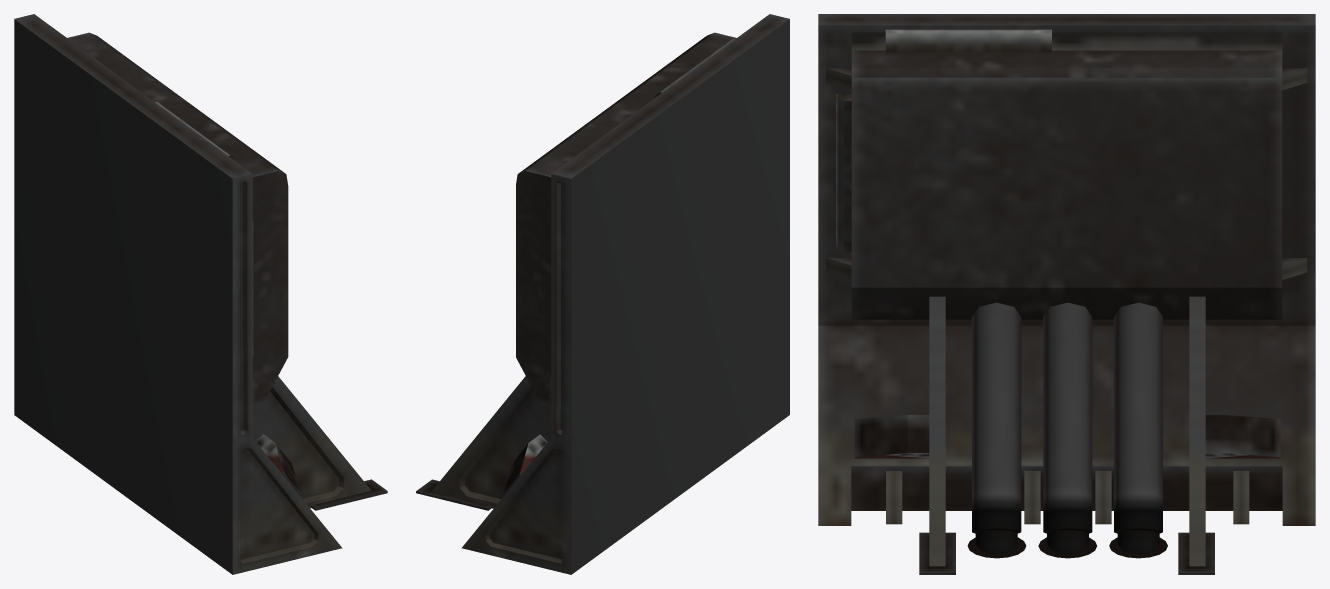
Rendered from Wall_21.FBX.
3 renders of one model, left to right at view 1: azimuth 30°, elevation 25°; view 2: azimuth 150°, elevation 25°; view 3: azimuth 270°, elevation 25°, orthographic. The views are drawn at different scales.
Visible parts, largest first — view 1: Wall_21; view 2: Wall_21; view 3: Wall_21.
Boxes of the visible parts, x1,y1,x2,y2 form: Wall_21: [14, 14, 387, 574]; Wall_21: [416, 14, 789, 574]; Wall_21: [818, 14, 1315, 574].
Bounding box in the file's own units: 158 × 300 × 300.
